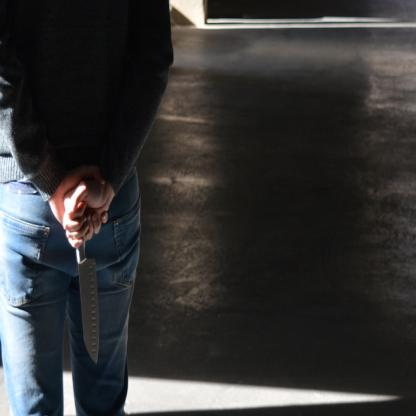knife: (69, 227, 103, 370)
